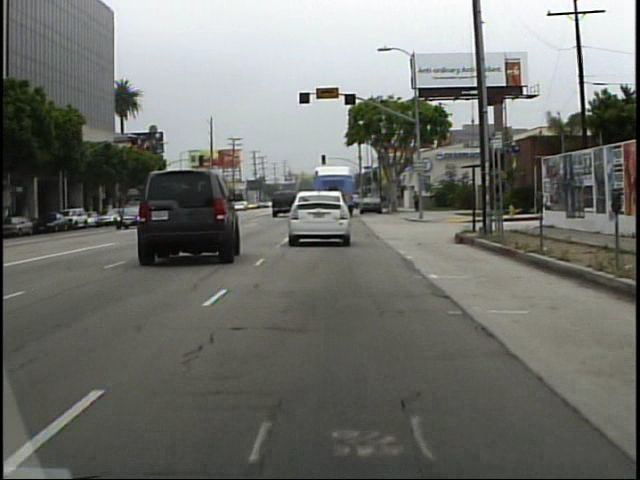person: (411, 189, 421, 214), (417, 187, 425, 213)
